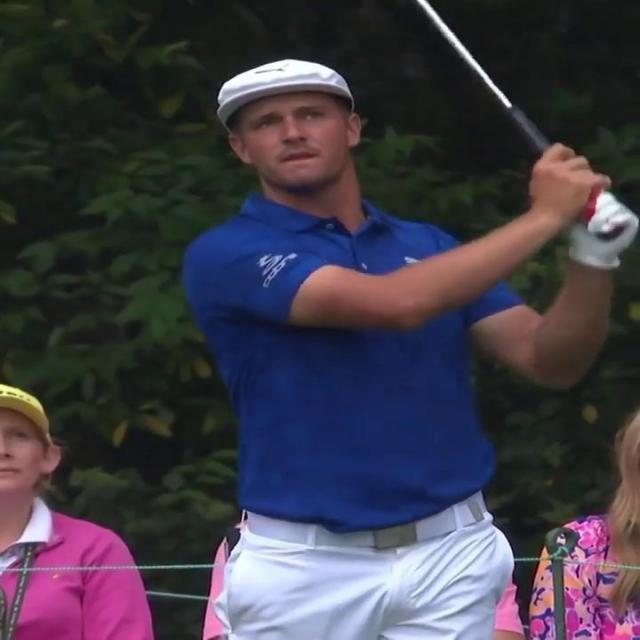golf club-handle: (417, 0, 624, 243)
